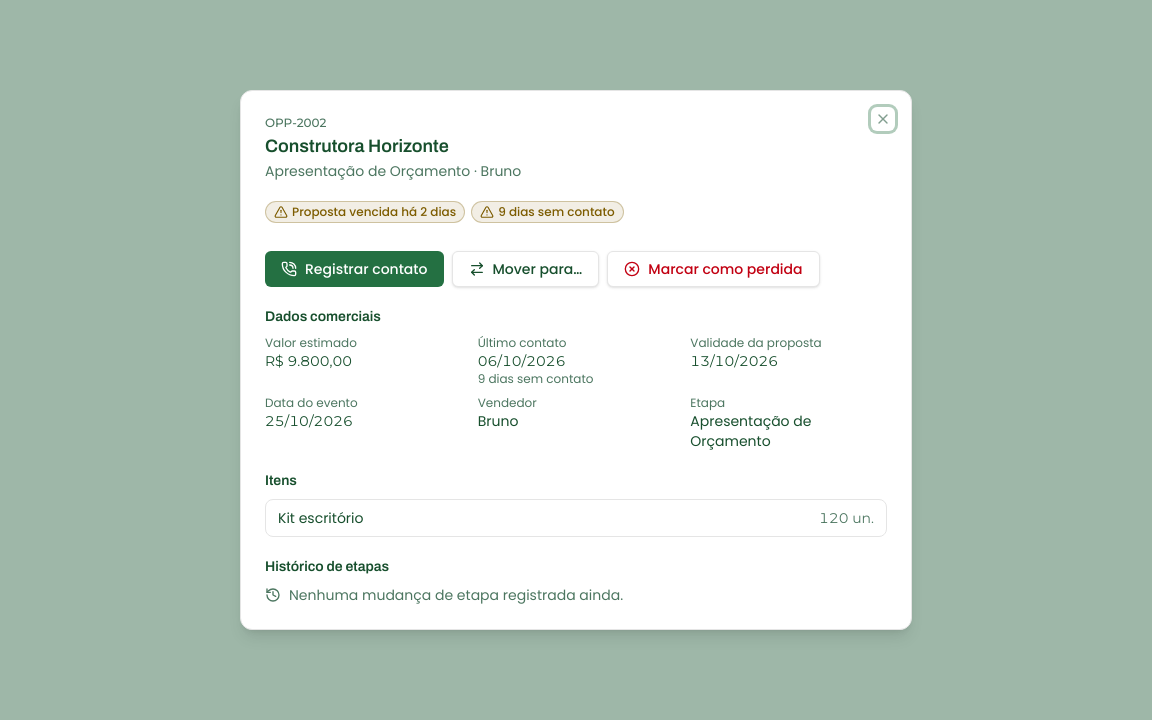
Scenario: H4.6 — detalhe da oportunidade › ao registrar contato na OPP-2002, "9 dias sem contato" some e "proposta vencida" continua
The width and height of the screenshot is (1152, 720).
Click the button "Registrar contato" at (354, 269), box [265,251,444,287]
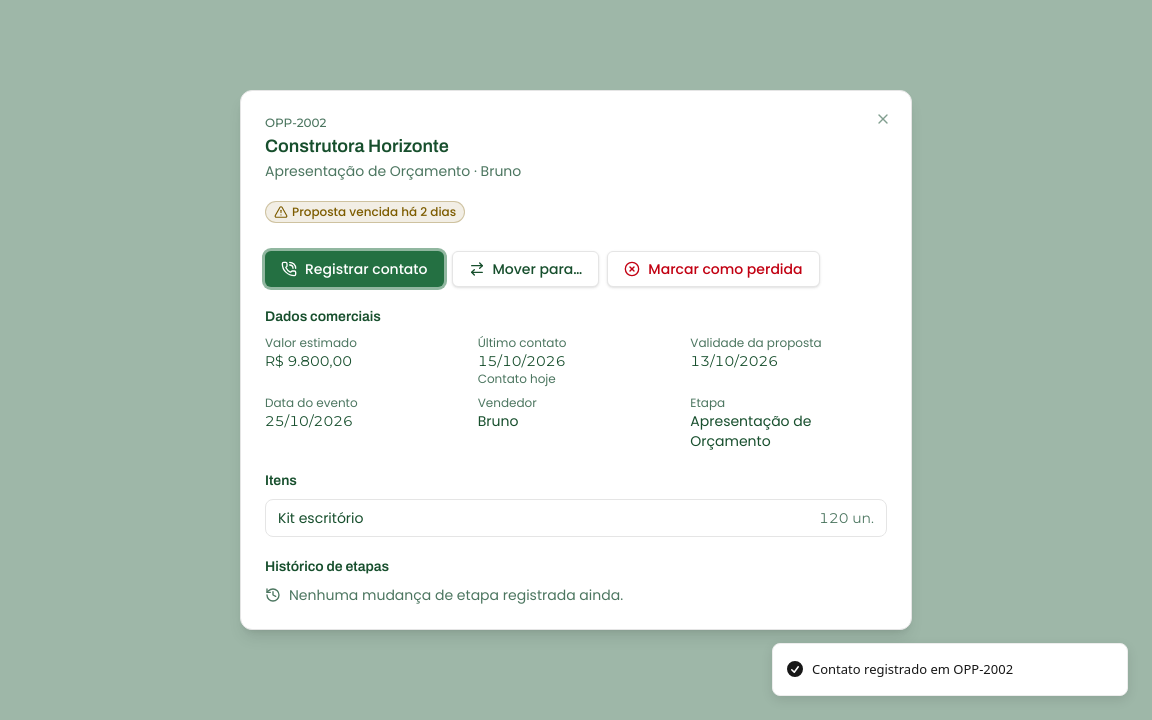
Check: the list item "Proposta vencida há 2 dias" is shown, box [265,201,465,223]
Check: the text "Contato registrado em OPP-2002" is shown, box [812,660,1013,679]
Check: the list item "9 dias sem contato" is gone
